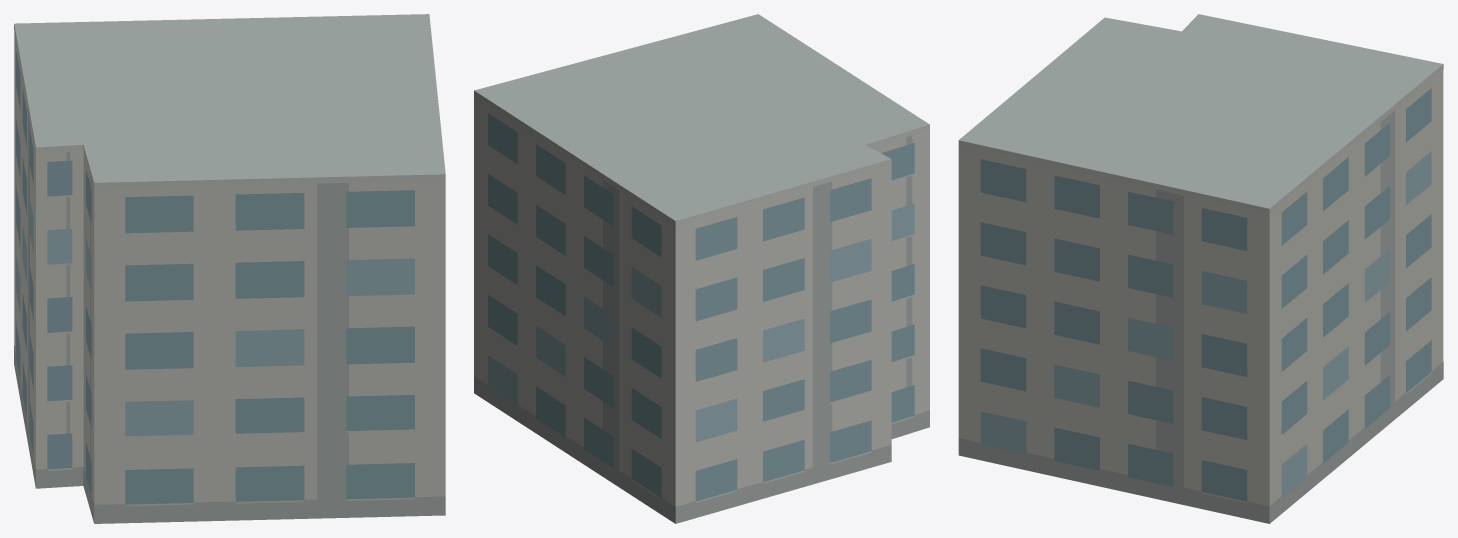
Rendered from survey-upis-32893344.glb.
The picture shows the model from 3 angles, left to right: view 1: azimuth 30°, elevation 25°; view 2: azimuth 150°, elevation 25°; view 3: azimuth 270°, elevation 25°; orthographic projection. The views are drawn at different scales.
Parts seen in each view (by area): view 1: survey-upis-32893344.tmp; view 2: survey-upis-32893344.tmp; view 3: survey-upis-32893344.tmp.
Part boxes in pixels (x1,y1,x2,y2): survey-upis-32893344.tmp: [14, 14, 445, 523]; survey-upis-32893344.tmp: [474, 14, 929, 523]; survey-upis-32893344.tmp: [958, 14, 1443, 523].
Size of the model in its own units: 17.63 by 13.3 by 18.55.
